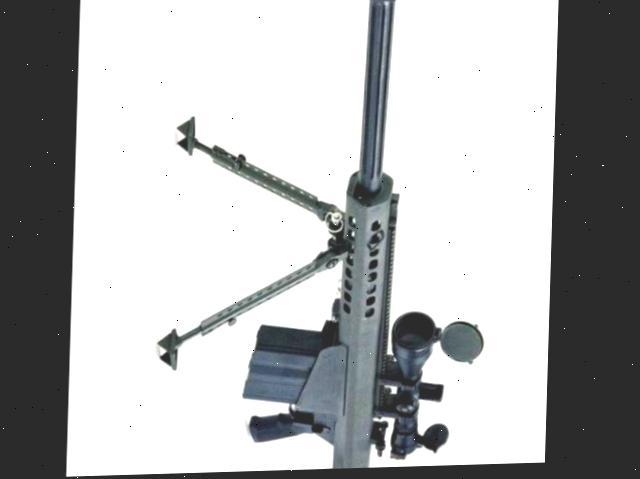rifle: (134, 0, 498, 476)
